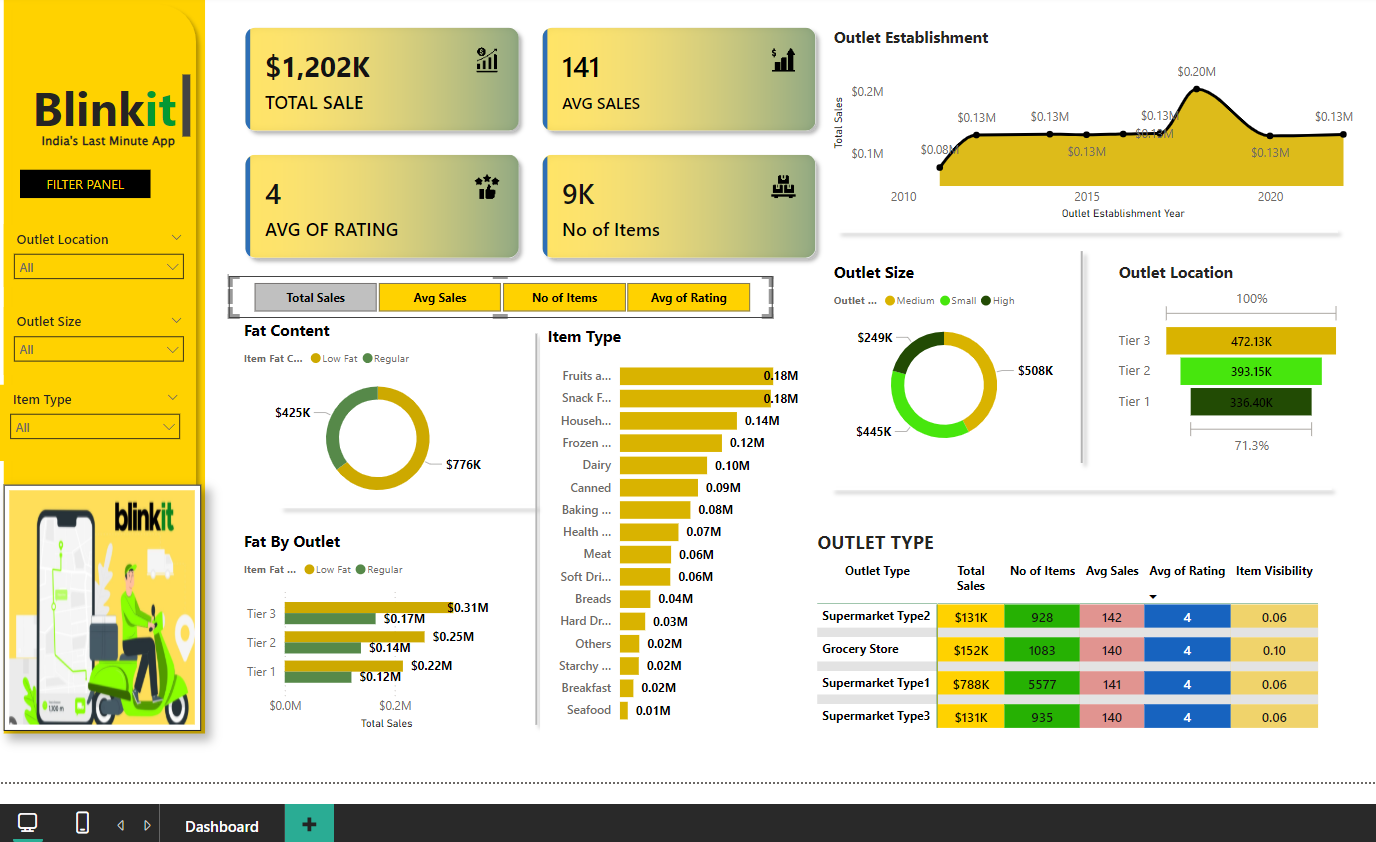

This screenshot's page, from the dashboard's own definition file:
{"tool":"powerbi","page":{"name":"Page 1","canvas":[1400,800],"ordinal":0},"visuals":[{"type":"shape","box":[4.1,0,204.6,750.5],"z":0},{"type":"textbox","box":[21,75,177.1,73.5],"z":1000},{"type":"textbox","box":[21,132.1,177.1,30],"z":2000},{"type":"funnel","title":"Outlet Location","fields":{"Y":["Sum(BlinkIT Grocery Data.Sales)"],"Category":["BlinkIT Grocery Data.Outlet Location Type"]},"box":[1133.4,269.5,236.4,203.2],"z":3000},{"type":"donutChart","title":"Fat Content","fields":{"Y":["BlinkIT Grocery Data.Avg Sales"],"Category":["BlinkIT Grocery Data.Item Fat Content"]},"box":[243.3,327.6,283.3,194.9],"z":4000},{"type":"slicer","fields":{"Values":["Metrics.Metrics"]},"box":[232.2,284.7,554.3,42.8],"z":5000},{"type":"clusteredBarChart","title":"Fat By Outlet","fields":{"Y":["BlinkIT Grocery Data.Avg Sales"],"Category":["BlinkIT Grocery Data.Outlet Location Type"],"Series":["BlinkIT Grocery Data.Item Fat Content"]},"box":[243.3,543.2,276.4,207.3],"z":6000},{"type":"barChart","title":"Item Type","fields":{"Y":["BlinkIT Grocery Data.Total Sales"],"Category":["BlinkIT Grocery Data.Item Type"]},"box":[551.5,334.5,265.4,416],"z":7000},{"type":"shape","box":[536.3,334.5,12.4,416],"z":8000},{"type":"lineChart","title":"Outlet Establishment","fields":{"Y":["BlinkIT Grocery Data.Total Sales"],"Category":["BlinkIT Grocery Data.Outlet Establishment Year"]},"box":[843.1,30.4,541.8,201.8],"z":9000},{"type":"shape","box":[276.4,510,277.8,19.4],"z":10000},{"type":"shape","box":[843.1,229.4,526.6,20.7],"z":11000},{"type":"shape","box":[536.3,334.5,12.4,416],"z":12000},{"type":"donutChart","title":"Outlet Size","fields":{"Category":["BlinkIT Grocery Data.Outlet Size"],"Y":["BlinkIT Grocery Data.Total Sales"]},"box":[843.1,269.5,235,203.2],"z":13000},{"type":"shape","box":[1078.1,250.2,44.2,233.6],"z":14000},{"type":"shape","box":[836.2,472.7,526.6,56.7],"z":15000},{"type":"pivotTable","title":"OUTLET TYPE","fields":{"Rows":["BlinkIT Grocery Data.Outlet Type"],"Values":["BlinkIT Grocery Data.Total Sales","BlinkIT Grocery Data.No of Items","BlinkIT Grocery Data.Avg Sales","BlinkIT Grocery Data.Avg of Rating","Avg(BlinkIT Grocery Data.Item Visibility)"]},"box":[826.5,543.2,551.5,225.3],"z":16000},{"type":"slicer","fields":{"Values":["BlinkIT Grocery Data.Outlet Location Type"]},"box":[4.1,232.2,193.5,63.6],"z":17000},{"type":"slicer","fields":{"Values":["BlinkIT Grocery Data.Outlet Size"]},"box":[4.1,316.5,193.5,69.1],"z":18000},{"type":"slicer","fields":{"Values":["BlinkIT Grocery Data.Item Type"]},"box":[0,395.3,193.5,77.4],"z":19000},{"type":"textbox","box":[20.7,176.9,132.7,29],"z":20000},{"type":"cardVisual","fields":{"Data":["BlinkIT Grocery Data.Total Sales","BlinkIT Grocery Data.Avg Sales","BlinkIT Grocery Data.Avg of Rating","BlinkIT Grocery Data.No of Items"]},"box":[232.2,15.2,615.1,269.5],"z":21000},{"type":"image","box":[4.1,497.6,200.4,250.2],"z":22000}]}

Visuals, with their boxes on the page's 1400x800 design canvas (x1, y1, x2, y2). These are canvas units, not pixel positions in the 1376x842 screenshot, which may show the page scaled, cropped or inside an application window:
shape: pyautogui.locateOnScreen(4, 0, 209, 750)
textbox: pyautogui.locateOnScreen(21, 75, 198, 148)
textbox: pyautogui.locateOnScreen(21, 132, 198, 162)
"Outlet Location" funnel: pyautogui.locateOnScreen(1133, 270, 1370, 473)
"Fat Content" donutChart: pyautogui.locateOnScreen(243, 328, 527, 522)
slicer - Metrics.Metrics: pyautogui.locateOnScreen(232, 285, 786, 328)
"Fat By Outlet" clusteredBarChart: pyautogui.locateOnScreen(243, 543, 520, 750)
"Item Type" barChart: pyautogui.locateOnScreen(552, 334, 817, 750)
shape: pyautogui.locateOnScreen(536, 334, 549, 750)
"Outlet Establishment" lineChart: pyautogui.locateOnScreen(843, 30, 1385, 232)
shape: pyautogui.locateOnScreen(276, 510, 554, 529)
shape: pyautogui.locateOnScreen(843, 229, 1370, 250)
shape: pyautogui.locateOnScreen(536, 334, 549, 750)
"Outlet Size" donutChart: pyautogui.locateOnScreen(843, 270, 1078, 473)
shape: pyautogui.locateOnScreen(1078, 250, 1122, 484)
shape: pyautogui.locateOnScreen(836, 473, 1363, 529)
"OUTLET TYPE" pivotTable: pyautogui.locateOnScreen(826, 543, 1378, 768)
slicer - BlinkIT Grocery Data.Outlet Location Type: pyautogui.locateOnScreen(4, 232, 198, 296)
slicer - BlinkIT Grocery Data.Outlet Size: pyautogui.locateOnScreen(4, 316, 198, 386)
slicer - BlinkIT Grocery Data.Item Type: pyautogui.locateOnScreen(0, 395, 194, 473)
textbox: pyautogui.locateOnScreen(21, 177, 153, 206)
cardVisual - BlinkIT Grocery Data.Total Sales x BlinkIT Grocery Data.Avg Sales: pyautogui.locateOnScreen(232, 15, 847, 285)
image: pyautogui.locateOnScreen(4, 498, 204, 748)
